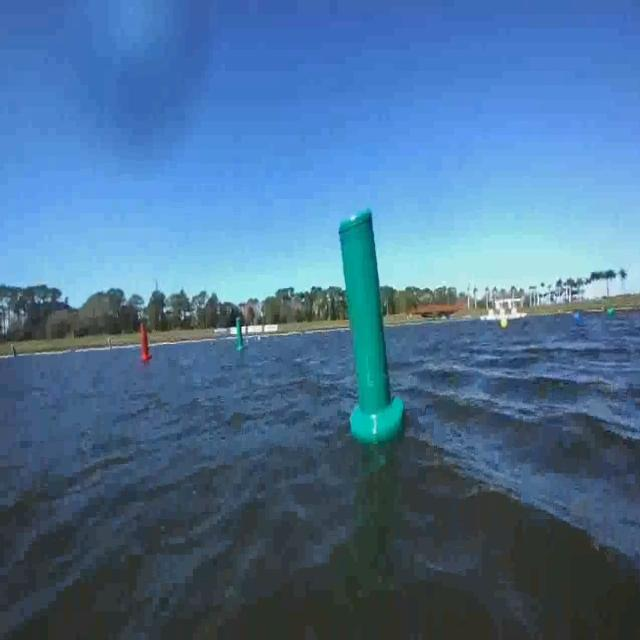blue-buoy: (573, 311, 582, 326)
green-buoy: (606, 307, 614, 319)
green-column-buoy: (337, 209, 404, 446), (236, 320, 247, 352)
red-column-buoy: (139, 324, 152, 361)
yellow-buoy: (499, 319, 508, 333)
